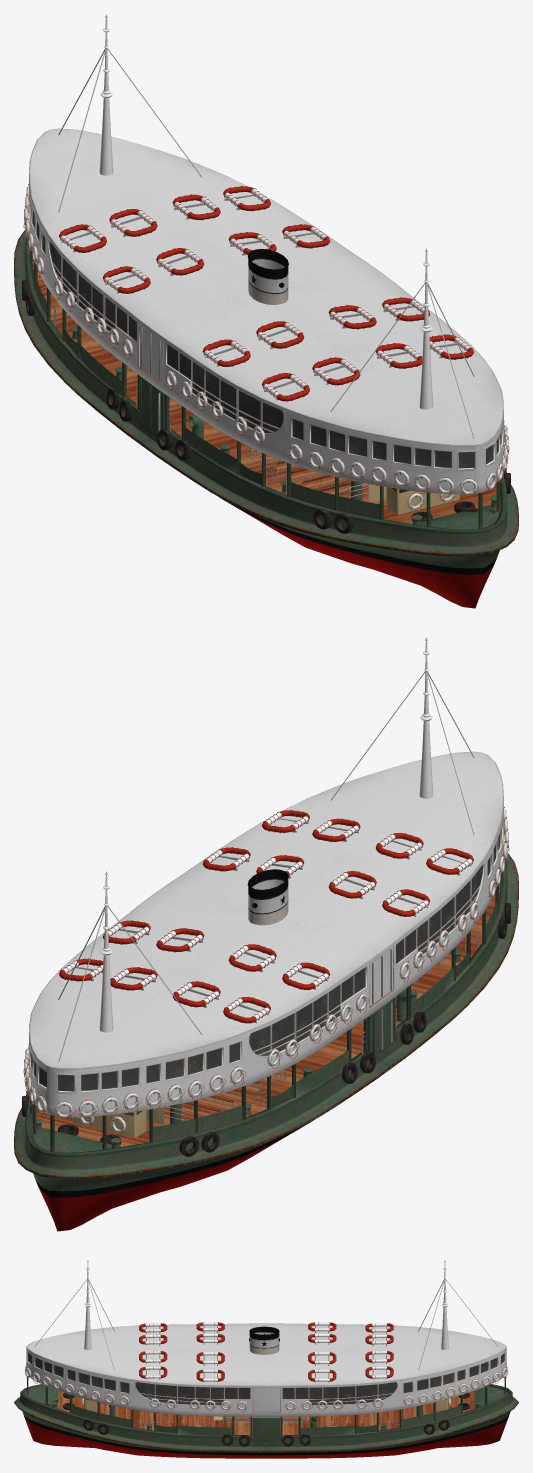
Rendered from ferry-star.glb.
The picture shows the model from 3 angles, top to bottom: view 1: azimuth 30°, elevation 25°; view 2: azimuth 150°, elevation 25°; view 3: azimuth 270°, elevation 25°; orthographic projection. The views are drawn at different scales.
Parts seen in each view (by area): view 1: defaultobject; view 2: defaultobject; view 3: defaultobject.
Boxes of the visible parts, x1,y1,x2,y2 form: defaultobject: (14,14,518,608); defaultobject: (14,637,518,1231); defaultobject: (14,1260,518,1458).
Bounding box in the file's own units: 10.31 × 13.18 × 32.24.
5 materials, 4 textured.
